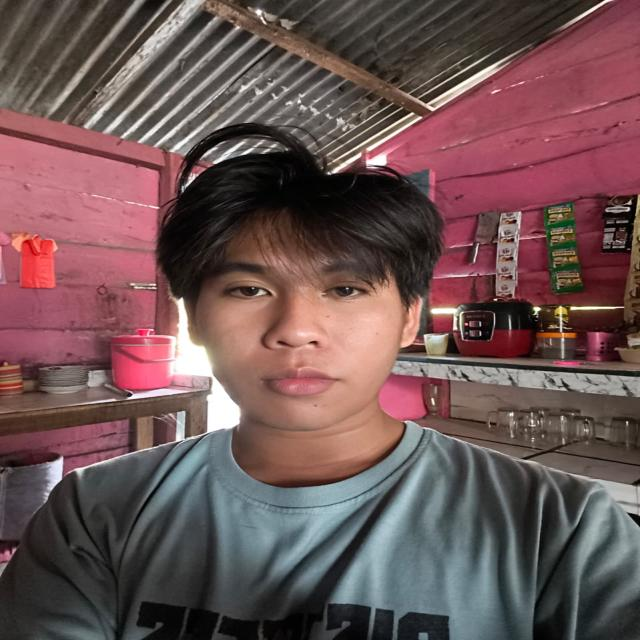sem_oculos: (173, 254, 434, 308)
